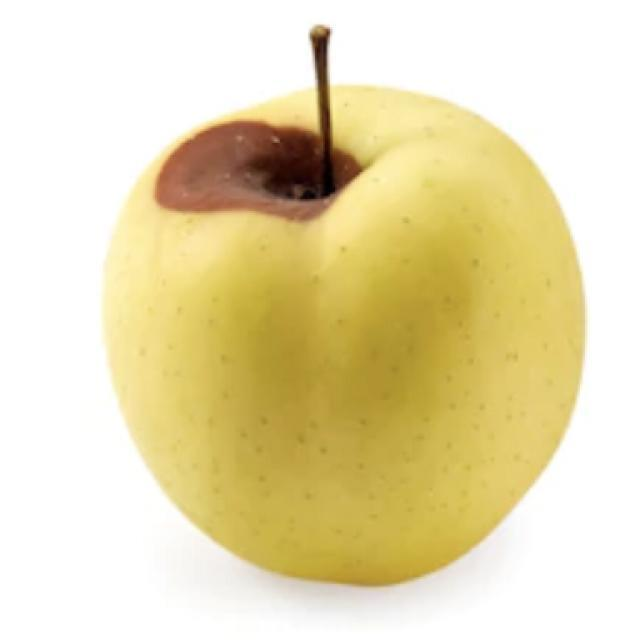Rotten: (95, 79, 590, 594)
